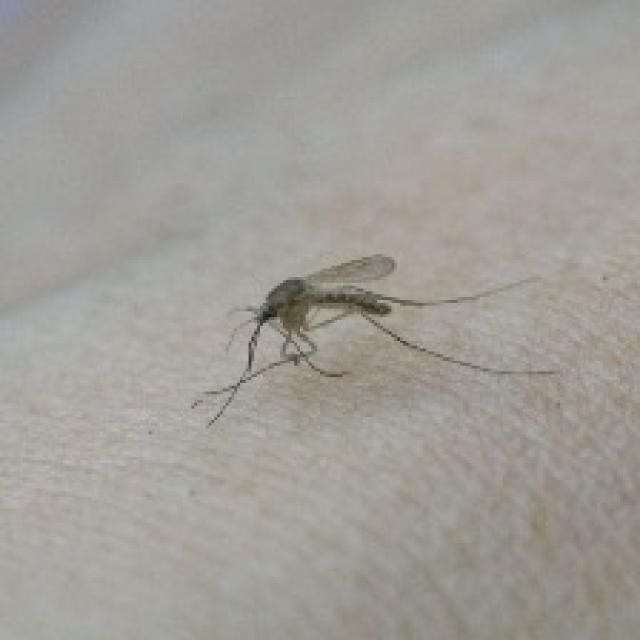culex: (189, 248, 557, 428)
